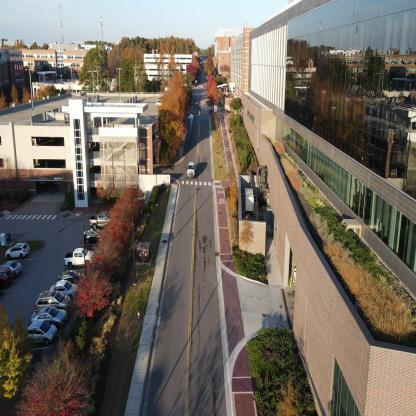EB-1: (223, 25, 247, 114)
Fitts- Woolard: (250, 23, 415, 415)
